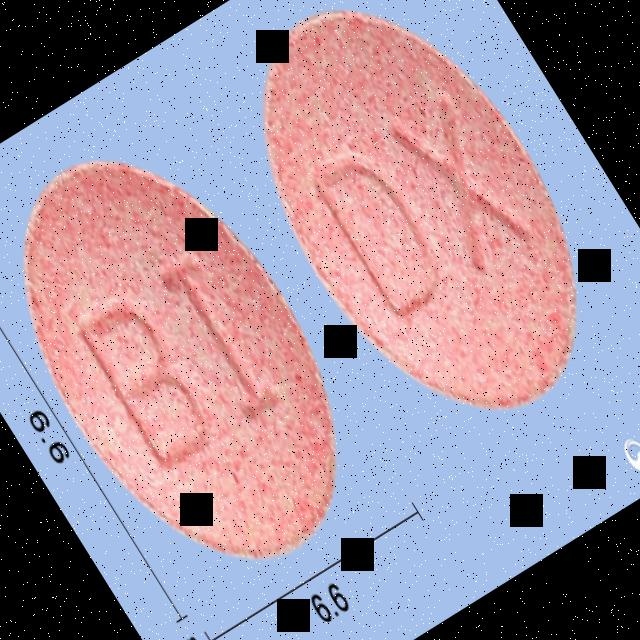Doxic: (199, 0, 640, 464), (0, 108, 400, 611)
